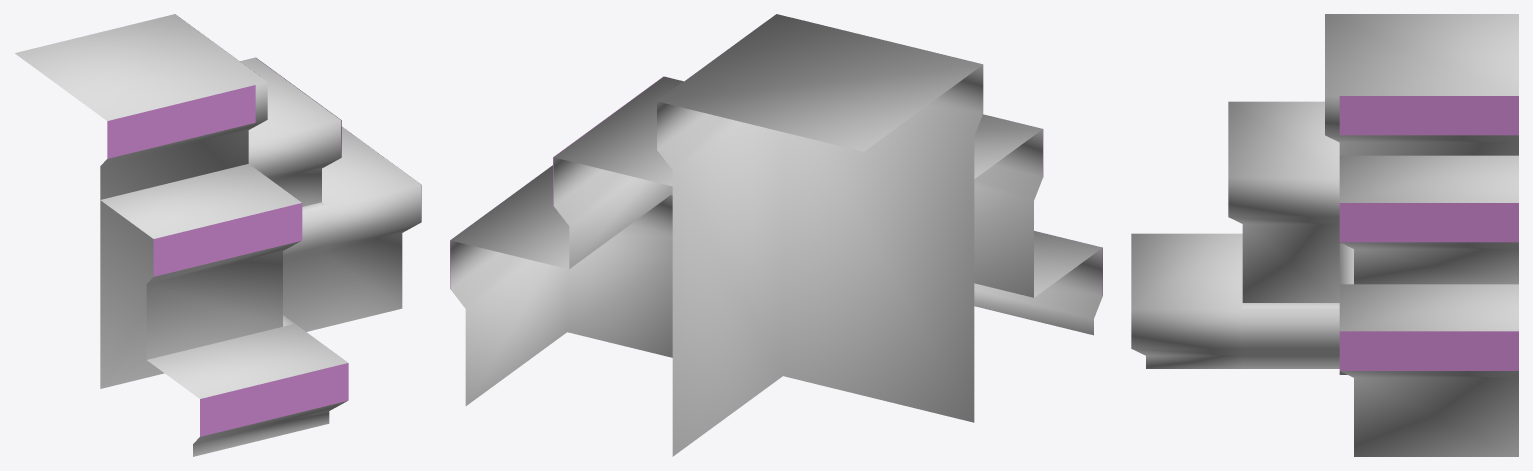
Rendered from ShortClimbCombo.fbx.
3 renders of one model, left to right at view 1: azimuth 30°, elevation 25°; view 2: azimuth 150°, elevation 25°; view 3: azimuth 270°, elevation 25°, orthographic. The views are drawn at different scales.
Visible parts, largest first — view 1: ShortClimbCombo; view 2: ShortClimbCombo; view 3: ShortClimbCombo.
Part boxes in pixels (x1,y1,x2,y2): ShortClimbCombo: (15,14,421,456); ShortClimbCombo: (450,14,1102,456); ShortClimbCombo: (1131,14,1518,456).
Bounding box in the file's own units: 4 × 3.25 × 4.
